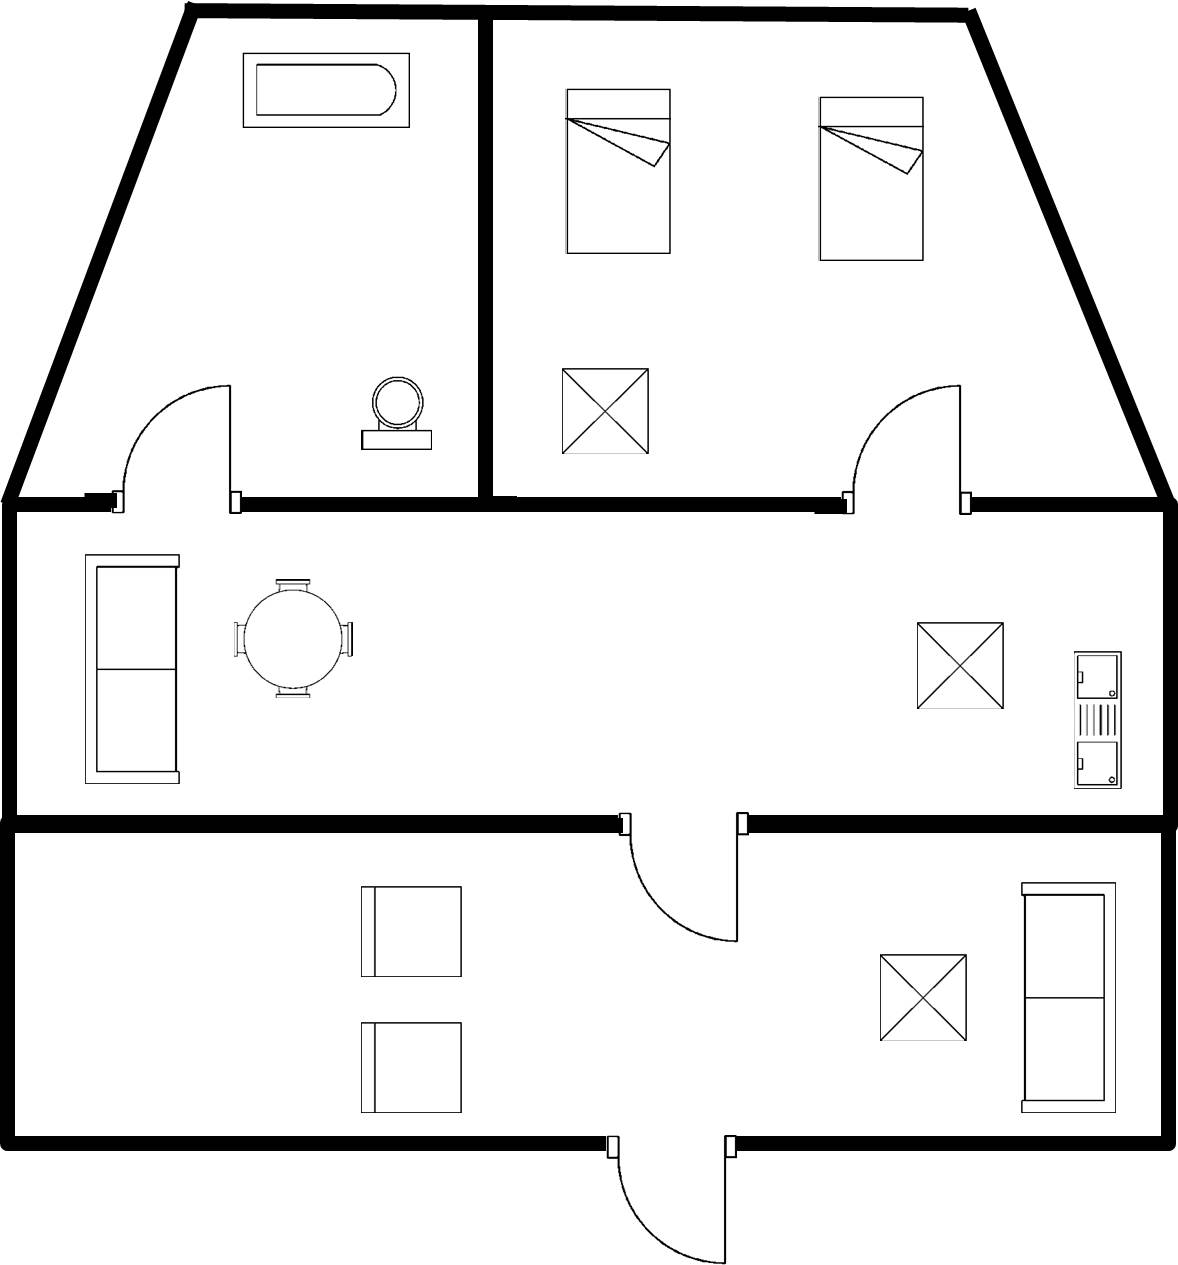bed: (552, 78, 683, 268), (811, 88, 932, 272)
coffee_table: (868, 944, 978, 1052), (902, 616, 1015, 720), (552, 358, 657, 463)
large_sink: (348, 368, 444, 459)
large_sofa: (76, 541, 193, 799), (1007, 870, 1122, 1123)
round_table: (220, 570, 367, 711)
small_sofa: (352, 1011, 476, 1125), (349, 875, 475, 986)
tub: (231, 42, 421, 142)
twin_sink: (1059, 643, 1133, 802)
